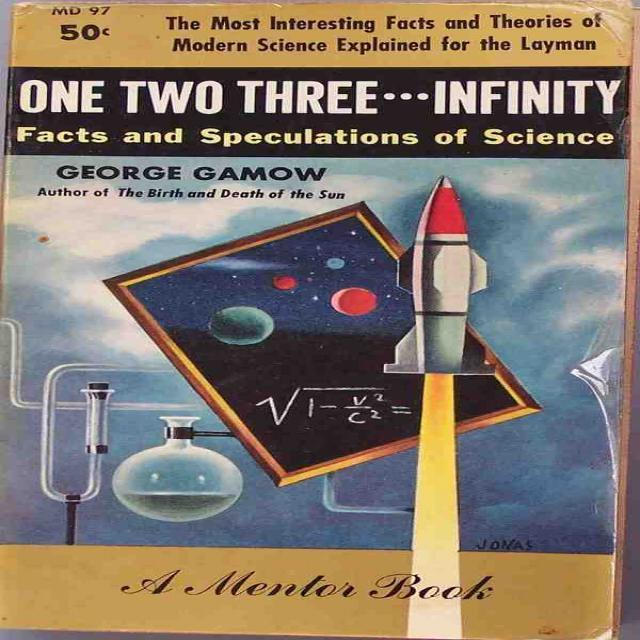missile: (404, 152, 482, 394)
